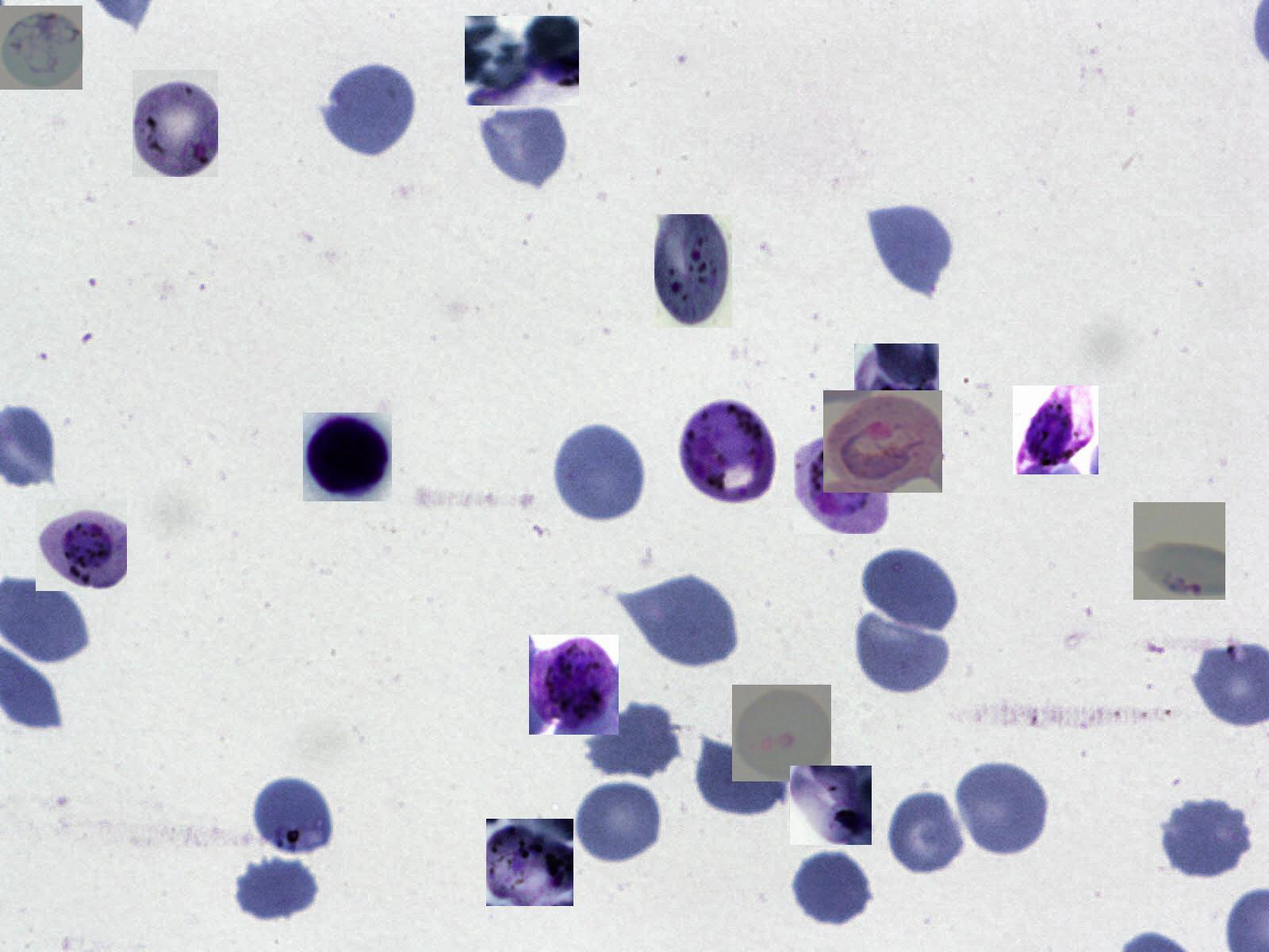Infected: (823, 390, 942, 493), (465, 16, 579, 106), (683, 399, 775, 507), (732, 685, 831, 781), (794, 436, 889, 534), (132, 71, 218, 178), (1133, 502, 1225, 600), (529, 635, 619, 735), (654, 214, 732, 328), (36, 499, 128, 591), (854, 344, 939, 440), (303, 413, 392, 501), (486, 819, 573, 906), (1013, 386, 1098, 474), (0, 6, 82, 90), (790, 766, 872, 845)
Uninfected: (628, 573, 738, 671), (552, 420, 649, 527), (955, 757, 1051, 861), (851, 605, 953, 701), (323, 59, 418, 161), (861, 544, 960, 635), (866, 199, 957, 296), (690, 735, 791, 820), (476, 101, 571, 189), (573, 779, 665, 867), (1160, 794, 1252, 881), (585, 701, 681, 781), (886, 789, 968, 878), (791, 849, 874, 931), (234, 853, 324, 925), (249, 776, 332, 854)
